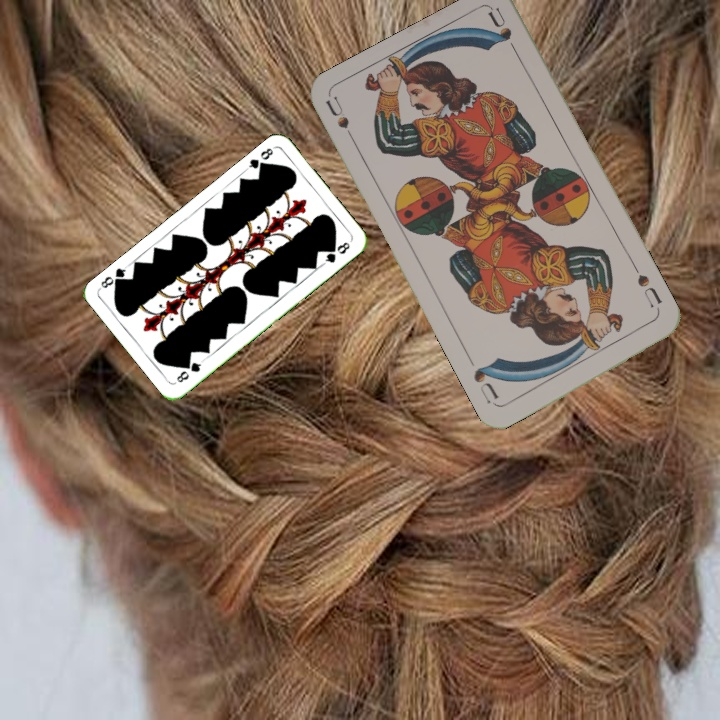G8: (242, 143, 276, 174), (172, 356, 206, 385)
SU: (322, 93, 361, 150), (629, 262, 665, 310)
